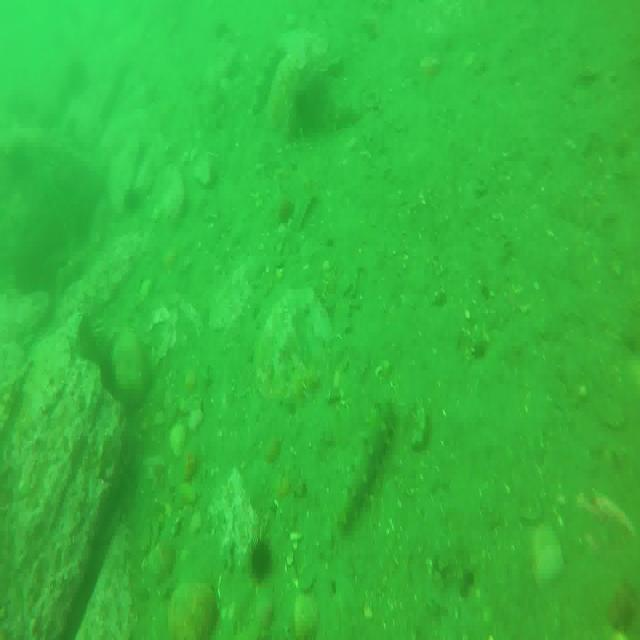echinus: (250, 532, 273, 584)
holothurian: (339, 396, 395, 531)
